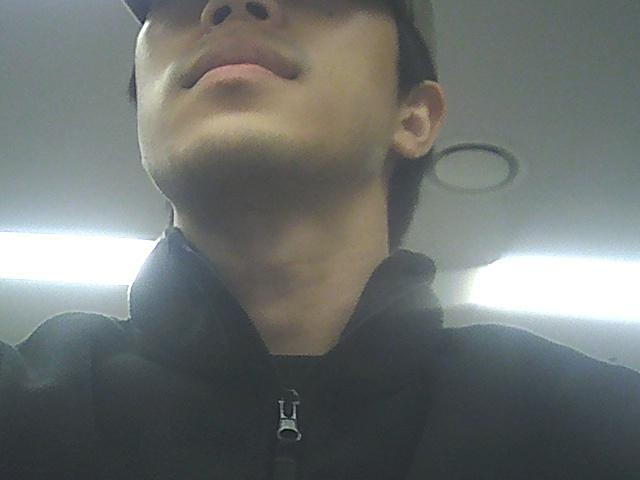Ear: (390, 72, 450, 159)
